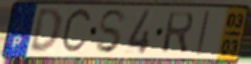4: (126, 9, 152, 57)
C: (59, 6, 94, 58)
D: (27, 7, 63, 56)
I: (195, 9, 212, 57)
R: (160, 11, 196, 56)
S: (94, 8, 128, 56)
